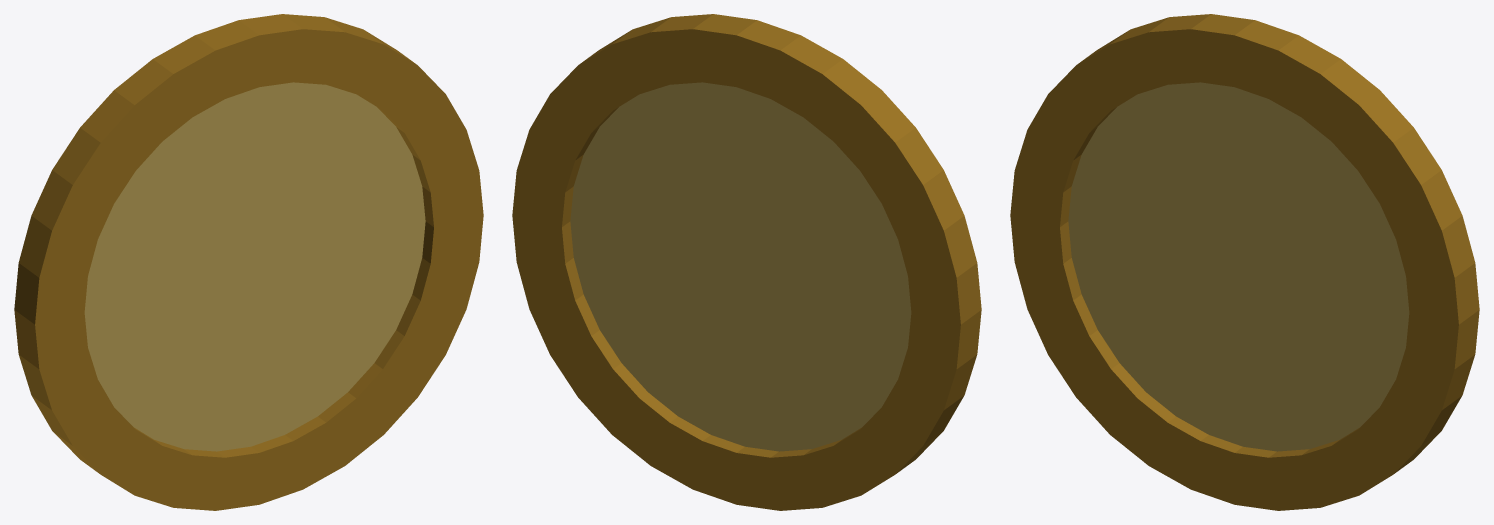
The model's file is dollar.fbx.
3 views of the same model, side by side, from view 1: azimuth 30°, elevation 25°; view 2: azimuth 150°, elevation 25°; view 3: azimuth 330°, elevation 25° (orthographic).
Visible parts, largest first — view 1: Cylinder.001, dollar; view 2: Cylinder.001, dollar; view 3: Cylinder.001, dollar.
Part boxes in pixels (left/top/right/bottom): Cylinder.001: left=84, top=82, right=425, bottom=451; dollar: left=14, top=14, right=483, bottom=510; Cylinder.001: left=570, top=82, right=911, bottom=451; dollar: left=512, top=14, right=981, bottom=510; Cylinder.001: left=1068, top=82, right=1409, bottom=451; dollar: left=1010, top=14, right=1479, bottom=510.
Bounding box in the file's own units: 200 × 200 × 16.
